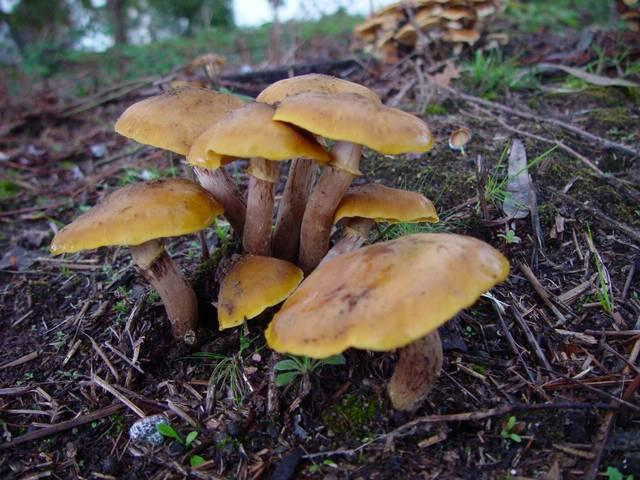Edible Mushroom: (263, 230, 510, 413), (263, 85, 435, 269), (48, 176, 224, 343), (186, 99, 330, 256)
